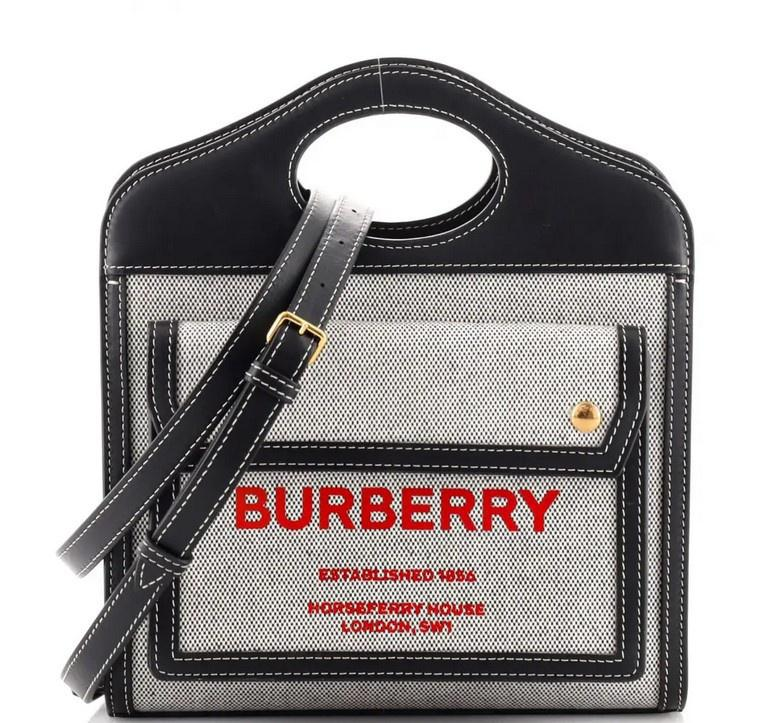BURBERRY: (235, 485, 560, 532)
